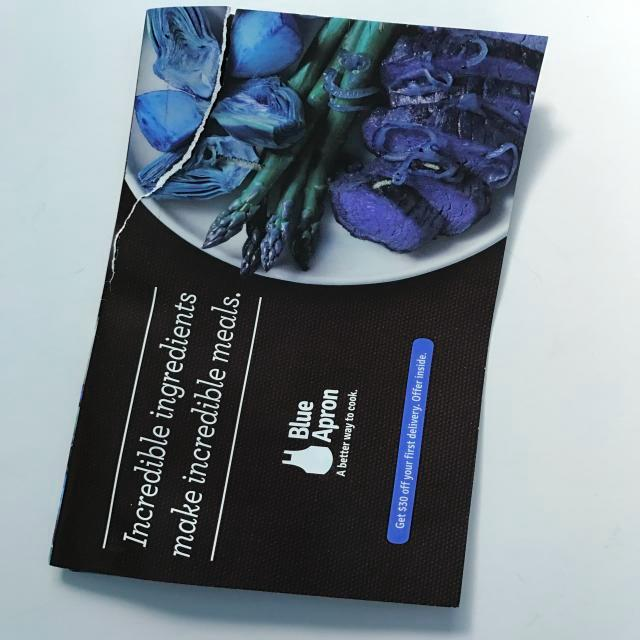paper: (54, 10, 532, 621)
